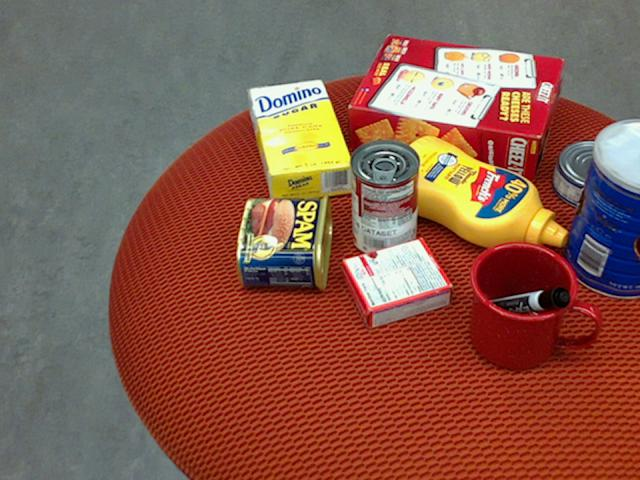cracker_box: (347, 33, 562, 179)
gelatin_box: (338, 239, 451, 329)
large_marker: (481, 284, 570, 318)
master_chef_can: (562, 118, 639, 299)
mug: (468, 240, 597, 370)
mustard_bottle: (381, 135, 567, 249)
potted_meat_can: (235, 193, 331, 290)
sugar_box: (247, 77, 354, 205)
tomato_soup_can: (348, 137, 418, 257)
tuna_fish_can: (551, 139, 636, 211)
